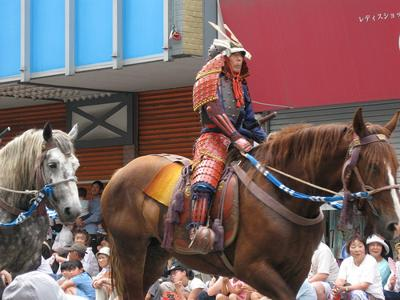person: (189, 38, 268, 248)
